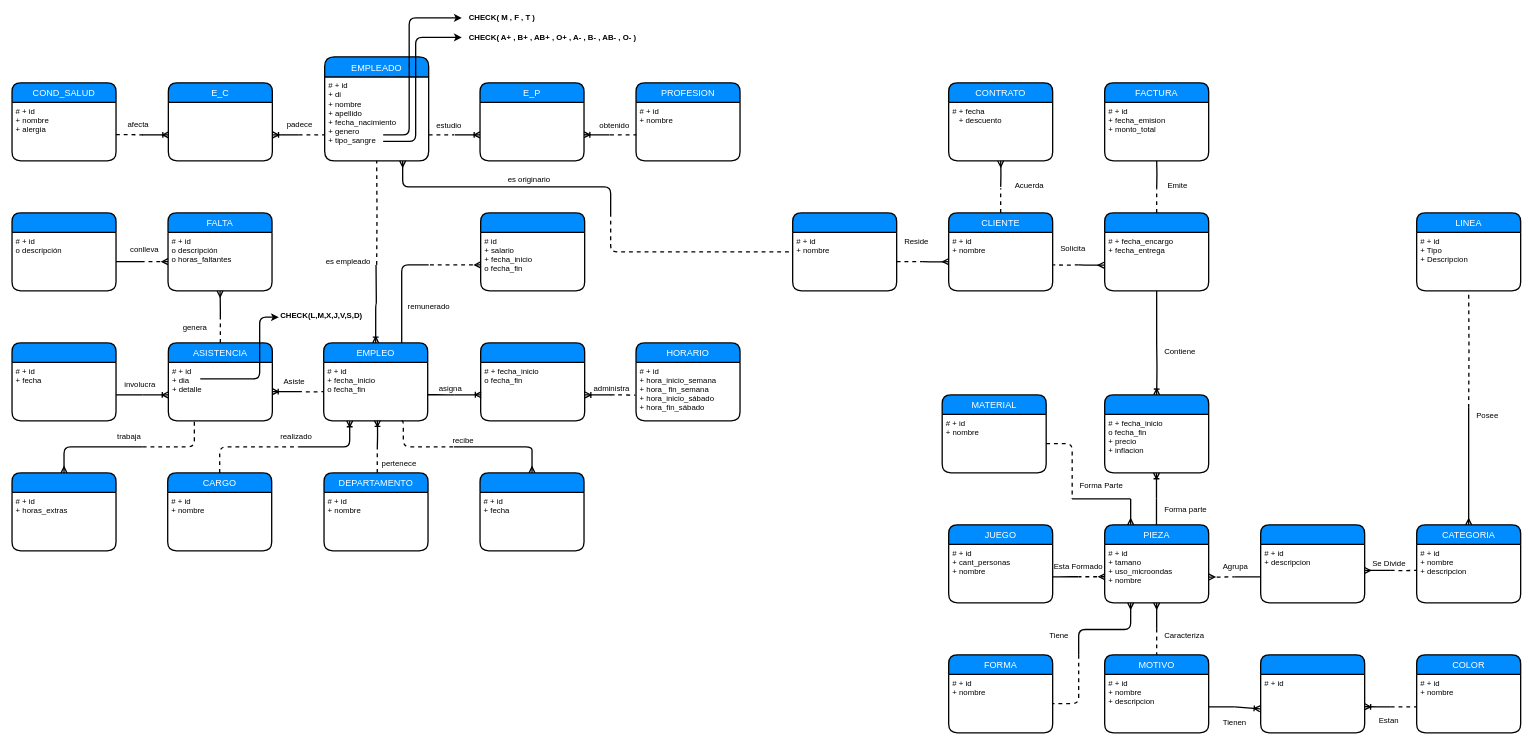
The diagram is 1532 pixels wide and 744 high, and some of its shapes have lost their labels. The shapes that lost their labels are listed below. From the top down, each one's box as (x1, y1, x2, y2) in pixels, then its label:
(11, 212, 116, 291): AMONESTACION
(480, 212, 585, 291): HIST_SALARIO
(792, 212, 897, 291): PAIS
(1104, 212, 1209, 291): PEDIDO
(11, 342, 116, 421): REUNION
(480, 342, 585, 421): HIST_HORARIO
(1104, 394, 1209, 473): HISTORIAL_PIEZA
(11, 472, 116, 551): TIEMPO_EXTRA
(479, 472, 584, 551): BONO
(1260, 524, 1365, 603): COLECCION
(1260, 654, 1365, 733): M_C
